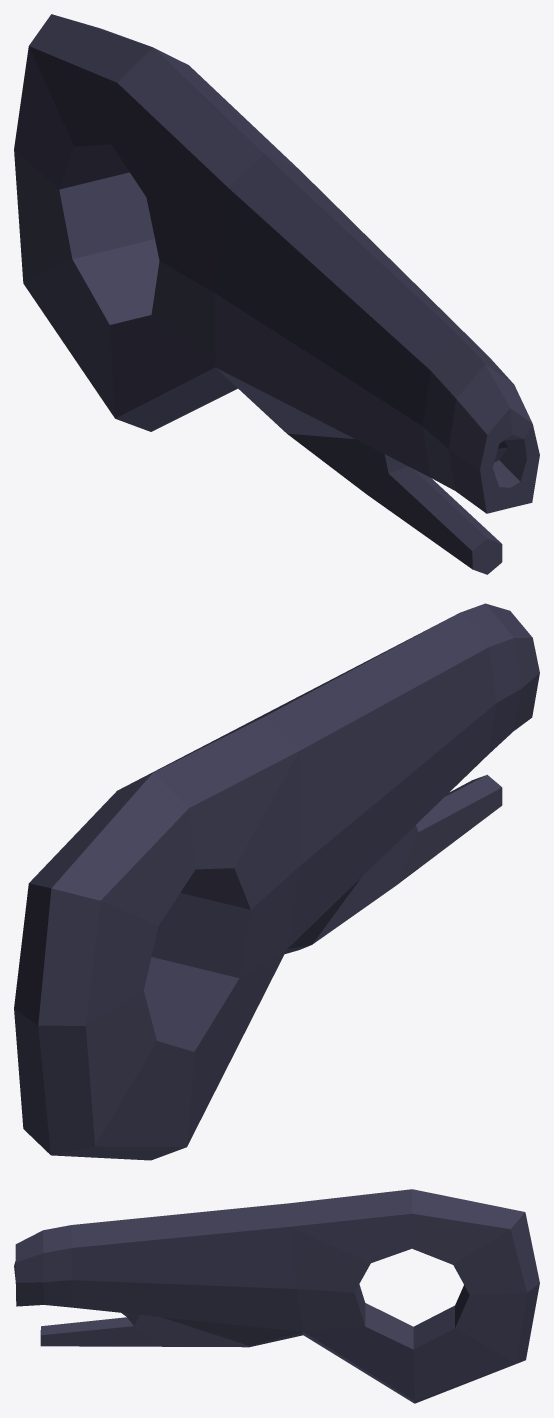
Rendered from gun.fbx.
3 renders of one model, top to bottom at view 1: azimuth 30°, elevation 25°; view 2: azimuth 150°, elevation 25°; view 3: azimuth 270°, elevation 25°, orthographic. The views are drawn at different scales.
Visible parts, largest first — view 1: Cube; view 2: Cube; view 3: Cube.
Part boxes in pixels (x1,y1,x2,y2): Cube: [14, 14, 539, 574]; Cube: [14, 603, 539, 1160]; Cube: [14, 1189, 539, 1403].
Size of the model in its own units: 0.3151 by 1.27 by 2.83.
